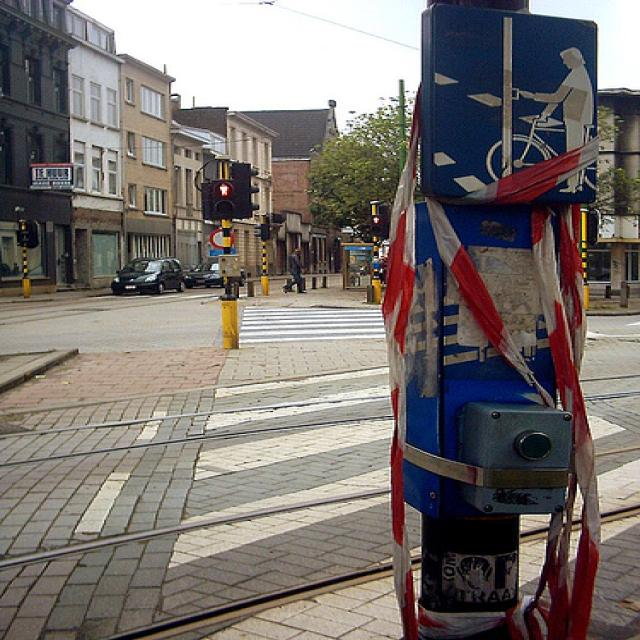Vehicle: (105, 255, 186, 297), (186, 262, 219, 288)
